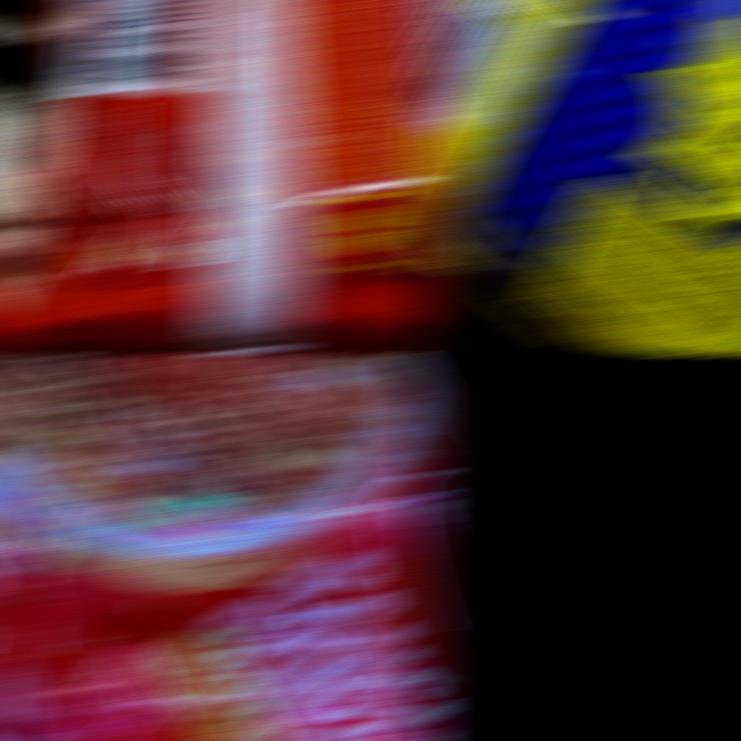lucky me cicken: (0, 1, 440, 354)
pancit canton sweet and spicy: (0, 356, 440, 740)
vcut cheese: (418, 1, 741, 354)
